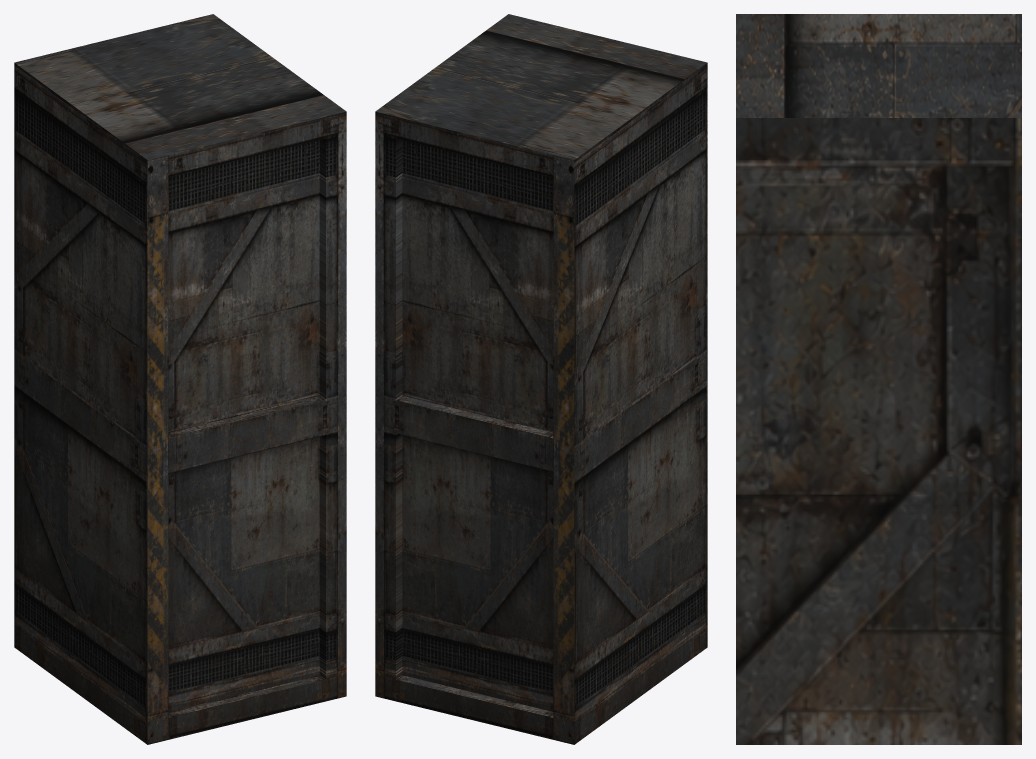
Rendered from MetalGate01.fbx.
3 renders of one model, left to right at view 1: azimuth 30°, elevation 25°; view 2: azimuth 150°, elevation 25°; view 3: azimuth 270°, elevation 25°, orthographic. The views are drawn at different scales.
Parts seen in each view (by area): view 1: MetalGate01; view 2: MetalGate01; view 3: MetalGate01.
Boxes of the visible parts, x1,y1,x2,y2 form: MetalGate01: [14, 14, 346, 744]; MetalGate01: [375, 14, 707, 744]; MetalGate01: [736, 14, 1021, 744].
Bounding box in the file's own units: 1.72 × 4.84 × 2.
